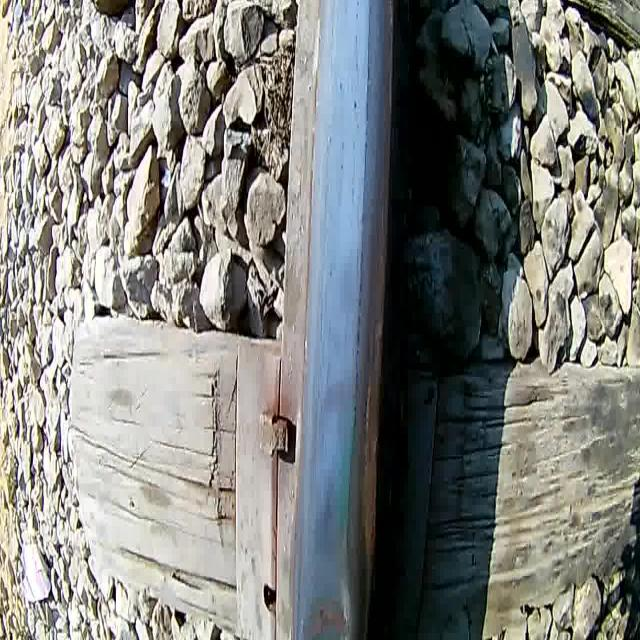Squats: (296, 585, 353, 640)
